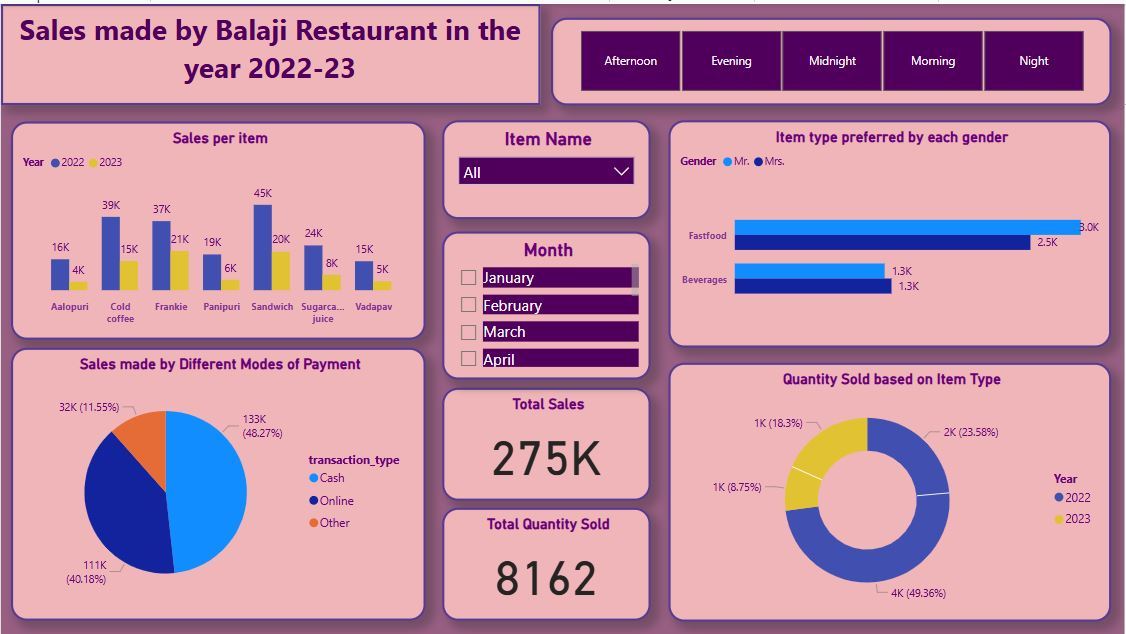

This screenshot's page, from the dashboard's own definition file:
{"tool":"powerbi","page":{"name":"Page 1","canvas":[1280,720],"ordinal":0},"visuals":[{"type":"clusteredColumnChart","title":"Sales per item","fields":{"Category":["food_sales.item_name"],"Y":["Sum(food_sales.transaction_amount)"],"Series":["food_sales.date.Variation.Date Hierarchy.Year"]},"box":[11.2,133.8,472.5,248.8],"z":0},{"type":"pieChart","title":"Sales made by Different Modes of Payment","fields":{"Y":["Sum(food_sales.transaction_amount)"],"Category":["food_sales.transaction_type"]},"box":[11.2,392.5,472.5,311.2],"z":1000},{"type":"slicer","fields":{"Values":["food_sales.time_of_sale"]},"box":[627.1,15.1,639.5,100.2],"z":2000},{"type":"card","title":"Total Sales","fields":{"Values":["Sum(food_sales.transaction_amount)"]},"box":[503.6,437.7,237.4,129],"z":3000},{"type":"clusteredBarChart","title":"Item type preferred by each gender","fields":{"Category":["food_sales.item_type"],"Y":["Sum(food_sales.quantity)"],"Series":["food_sales.received_by"]},"box":[761.6,133.1,505,259.3],"z":4000},{"type":"card","title":"Total Quantity Sold","fields":{"Values":["Sum(food_sales.quantity)"]},"box":[503.6,575,237.4,129],"z":5000},{"type":"donutChart","title":"Quantity Sold based on Item Type","fields":{"Category":["food_sales.date.Variation.Date Hierarchy.Year"],"Y":["Sum(food_sales.quantity)"],"Series":["food_sales.item_type"]},"box":[761.6,408.9,505,295],"z":6000},{"type":"slicer","title":"Month","fields":{"Values":["food_sales.date.Variation.Date Hierarchy.Month"]},"box":[503.6,259.3,237.4,168.8],"z":7000},{"type":"textbox","box":[0,0,615,115],"z":8000},{"type":"slicer","title":"Item Name","fields":{"Values":["food_sales.item_name"]},"box":[503.6,133.1,237.4,112.5],"z":9000}]}

Visuals, with their boxes in screenshot pixels (x1, y1, x2, y2), scaled from the page's 1280x720 canvas onto the 1126x634 screenshot:
"Sales per item" clusteredColumnChart: BBox(10, 118, 426, 337)
"Sales made by Different Modes of Payment" pieChart: BBox(10, 346, 426, 620)
slicer - food_sales.time_of_sale: BBox(552, 13, 1114, 102)
"Total Sales" card: BBox(443, 385, 652, 499)
"Item type preferred by each gender" clusteredBarChart: BBox(670, 117, 1114, 346)
"Total Quantity Sold" card: BBox(443, 506, 652, 620)
"Quantity Sold based on Item Type" donutChart: BBox(670, 360, 1114, 620)
"Month" slicer: BBox(443, 228, 652, 377)
textbox: BBox(0, 0, 541, 101)
"Item Name" slicer: BBox(443, 117, 652, 216)
